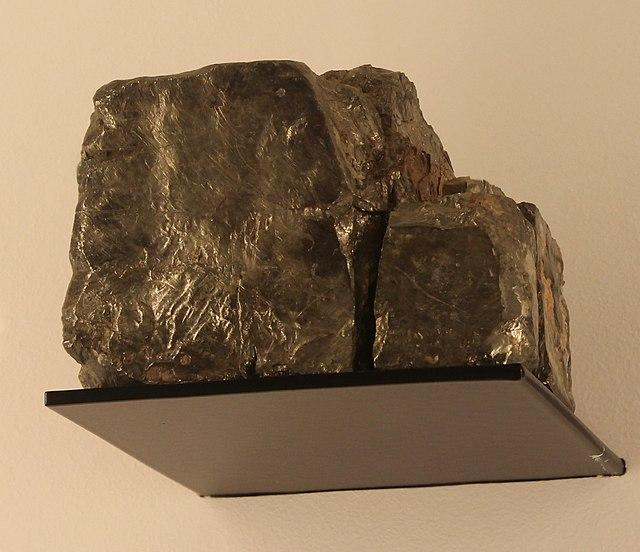pyrite: (60, 54, 576, 408)
